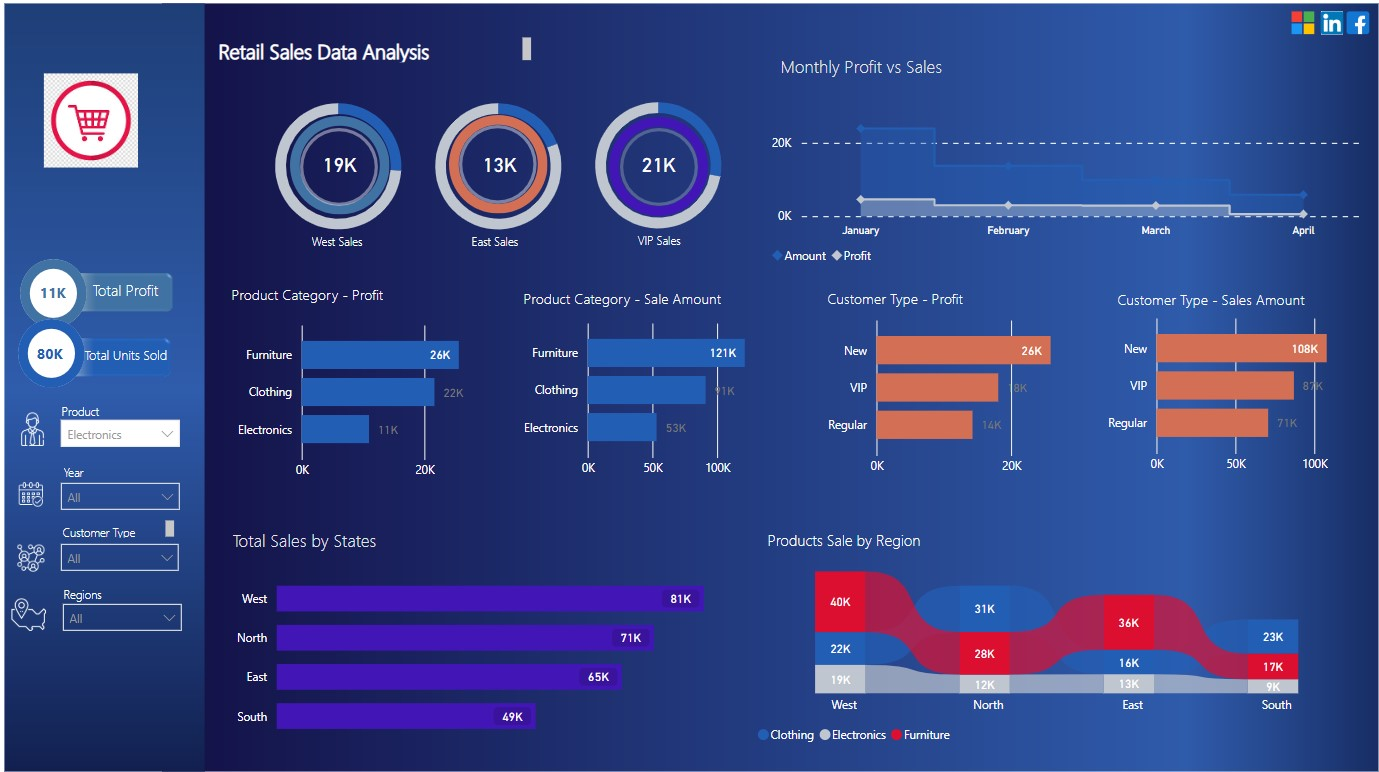

The dashboard page shown, as its layout file describes it:
{"tool":"powerbi","page":{"name":"Sales Analysis","canvas":[1280,720],"ordinal":0},"visuals":[{"type":"image","box":[146.3,0,1133.7,719.6],"z":0},{"type":"shape","box":[1221.7,12.2,20,21.7],"z":1000},{"type":"image","box":[0,0,194.7,720.1],"z":2000},{"type":"shape","box":[1077.9,366.2,192.3,184.1],"z":3000},{"type":"shape","box":[882.9,366.2,184.1,184.1],"z":4000},{"type":"shape","box":[695.4,198.7,184.1,184.1],"z":5000},{"type":"donutChart","title":"Variable Compensation","fields":{"Y":["Calcs.Month_Sales","Sum(Sales.Amount)"]},"box":[218.2,77.9,190.9,155.9],"z":6000},{"type":"areaChart","fields":{"Y":["Sum(Sales.Amount)","Sum(Sales.Profit)"],"Category":["Sales.Date.Variation.Date Hierarchy.Month"]},"box":[709.2,85.7,556.2,169.5],"z":12000},{"type":"ribbonChart","fields":{"Category":["Regions.Region"],"Series":["Products.Category"],"Y":["Sum(Sales.Amount)"]},"box":[695.5,489,569.9,209.4],"z":13000},{"type":"shape","box":[503.1,198.7,184.1,184.1],"z":14000},{"type":"barChart","fields":{"Category":["Products.Category"],"Y":["Sum(Sales.Amount)"]},"box":[474.8,288.7,254.8,164.3],"z":15000},{"type":"barChart","fields":{"Y":["Sum(Sales.Profit)"],"Category":["Products.Category"]},"box":[210.4,290.4,254.8,164.3],"z":16000},{"type":"barChart","fields":{"Y":["Sum(Sales.Profit)"],"Category":["Customers.CustomerType"]},"box":[756.5,285.2,255.7,165.2],"z":17000},{"type":"barChart","fields":{"Y":["Sum(Sales.Amount)"],"Category":["Customers.CustomerType"]},"box":[1015.7,283.5,254.8,165.2],"z":18000},{"type":"textbox","box":[210,258.9,164.4,38.9],"z":19000},{"type":"textbox","box":[1028.9,263.3,203.3,38.9],"z":20000},{"type":"textbox","box":[761.1,262.2,192.2,38.9],"z":21000},{"type":"barChart","title":"% Promedio  por Cluster","fields":{"Category":["Regions.Region"],"Y":["Sum(Sales.Amount)"]},"box":[210.4,515.7,476.5,180.9],"z":22000},{"type":"textbox","box":[210.4,485.2,340,33.9],"z":23000},{"type":"image","box":[6.1,442.2,46.8,34.1],"z":26000},{"type":"slicer","fields":{"Values":["Sales.Date.Variation.Date Hierarchy.Year"]},"box":[47,438.3,129.6,42.9],"z":27000},{"type":"textbox","box":[54.8,422.7,47.7,39.9],"z":28000},{"type":"image","box":[11.9,497.8,35.1,39.9],"z":29000},{"type":"textbox","box":[51.1,477.8,115.6,25.6],"z":30000},{"type":"slicer","fields":{"Values":["Customers.CustomerType"]},"box":[47.1,494.3,129.3,42.9],"z":31000},{"type":"image","box":[6.1,550.4,42.9,41.9],"z":32000},{"type":"slicer","fields":{"Values":["Sales.Region"]},"box":[48.9,550.4,129.6,42.9],"z":33000},{"type":"image","box":[6.1,377.9,48.7,40.9],"z":34000},{"type":"slicer","fields":{"Values":["Products.Category"]},"box":[47,379.9,129.6,42.9],"z":35000},{"type":"textbox","box":[53,366.1,65.2,29.6],"z":36000},{"type":"textbox","box":[54.8,534.8,65.3,29.2],"z":37000},{"type":"shape","box":[268.7,109.5,92,91.1],"z":38000},{"type":"card","title":"Variable Compensation","fields":{"Values":["Calcs.Month_Sales"]},"box":[278.6,130.5,73.1,49.7],"z":39000},{"type":"donutChart","title":"Variable Compensation","fields":{"Y":["Calcs.East_Sales","Sum(Sales.Amount)"]},"box":[365.6,77.2,190.9,155.9],"z":40000},{"type":"shape","box":[415.9,108.6,91.1,91.1],"z":41000},{"type":"card","title":"Variable Compensation","fields":{"Values":["Calcs.East_Sales"]},"box":[425.7,130.5,73.1,49.7],"z":42000},{"type":"donutChart","title":"Variable Compensation","fields":{"Y":["Calcs.YTD_Sales","Sum(Sales.Amount)"]},"box":[514.3,77,190.9,155.9],"z":43000},{"type":"shape","box":[564,110.1,91.6,91.6],"z":44000},{"type":"card","title":"Variable Compensation","fields":{"Values":["Calcs.YTD_Sales"]},"box":[572.8,130.5,73.1,49.7],"z":45000},{"type":"shape","box":[278.6,119.8,72.1,72.1],"z":46000},{"type":"shape","box":[425.1,117.8,71.8,72.7],"z":47000},{"type":"shape","box":[573.8,119.8,72.1,72.1],"z":48000},{"type":"textbox","box":[283.5,208.5,107.2,39.9],"z":49000},{"type":"textbox","box":[431.5,208.5,107.2,39.9],"z":50000},{"type":"textbox","box":[585.1,208.3,75.4,39.8],"z":51000},{"type":"textbox","box":[716.9,47.1,270,40.8],"z":52000},{"type":"textbox","box":[480,262.6,199.1,39.1],"z":53000},{"type":"image","box":[48.7,248.7,120,51.3],"z":55000},{"type":"shape","box":[19.1,240.9,61.7,63.5],"z":56000},{"type":"card","fields":{"Values":["Sum(Sales.Profit)"]},"box":[25.2,252.2,49.6,45.2],"z":57000},{"type":"textbox","box":[705.2,486.1,340,33.9],"z":58000},{"type":"textbox","box":[81.6,255.4,97.3,30.4],"z":59000},{"type":"image","box":[47,308.7,120,51.3],"z":60000},{"type":"shape","box":[17.4,296.5,61.7,63.5],"z":61000},{"type":"card","fields":{"Values":["Sum(Regions.TotalSales)"]},"box":[21.7,308.7,49.6,45.2],"z":62000},{"type":"textbox","box":[74.3,314,97.3,29.3],"z":63000},{"type":"image","box":[63.5,87.8,68.7,68.7],"z":64000},{"type":"image","box":[1187.6,7.8,35.3,30.9],"z":65000},{"type":"image","box":[1214.1,7.8,35.3,30.9],"z":66000},{"type":"image","box":[1238.9,7.8,35.3,30.9],"z":67000},{"type":"image","box":[18.8,64.9,134,97.3],"z":67004},{"type":"textbox","box":[197.8,31.4,299.3,33.5],"z":67005}]}

Visuals, with their boxes in screenshot pixels (x1, y1, x2, y2), scaled from the page's 1280x720 canvas onto the 1379x772 screenshot:
image: 158/0/1378/771
shape: 1316/13/1338/36
image: 0/0/210/771
shape: 1161/393/1368/590
shape: 951/393/1150/590
shape: 749/213/948/410
"Variable Compensation" donutChart: 235/84/441/251
areaChart - Sum(Sales.Amount) x Sum(Sales.Profit): 764/92/1363/274
ribbonChart - Regions.Region x Products.Category: 749/524/1363/749
shape: 542/213/740/410
barChart - Products.Category x Sum(Sales.Amount): 512/310/786/486
barChart - Sum(Sales.Profit) x Products.Category: 227/311/501/488
barChart - Sum(Sales.Profit) x Customers.CustomerType: 815/306/1090/483
barChart - Sum(Sales.Amount) x Customers.CustomerType: 1094/304/1369/481
textbox: 226/278/403/319
textbox: 1108/282/1328/324
textbox: 820/281/1027/323
"% Promedio  por Cluster" barChart: 227/553/740/747
textbox: 227/520/593/557
image: 7/474/57/511
slicer - Sales.Date.Variation.Date Hierarchy.Year: 51/470/190/516
textbox: 59/453/110/496
image: 13/534/51/577
textbox: 55/512/180/540
slicer - Customers.CustomerType: 51/530/190/576
image: 7/590/53/635
slicer - Sales.Region: 53/590/192/636
image: 7/405/59/449
slicer - Products.Category: 51/407/190/453
textbox: 57/393/127/424
textbox: 59/573/129/605
shape: 289/117/389/215
"Variable Compensation" card: 300/140/379/193
"Variable Compensation" donutChart: 394/83/600/250
shape: 448/116/546/214
"Variable Compensation" card: 459/140/537/193
"Variable Compensation" donutChart: 554/83/760/250
shape: 608/118/706/216
"Variable Compensation" card: 617/140/696/193
shape: 300/128/378/206
shape: 458/126/535/204
shape: 618/128/696/206
textbox: 305/224/421/266
textbox: 465/224/580/266
textbox: 630/223/712/266
textbox: 772/51/1063/94
textbox: 517/282/732/323
image: 52/267/182/322
shape: 21/258/87/326
card - Sum(Sales.Profit): 27/270/81/319
textbox: 760/521/1126/558
textbox: 88/274/193/306
image: 51/331/180/386
shape: 19/318/85/386
card - Sum(Regions.TotalSales): 23/331/77/379
textbox: 80/337/185/368
image: 68/94/142/168
image: 1279/8/1317/41
image: 1308/8/1346/41
image: 1335/8/1373/41
image: 20/70/165/174
textbox: 213/34/536/70
